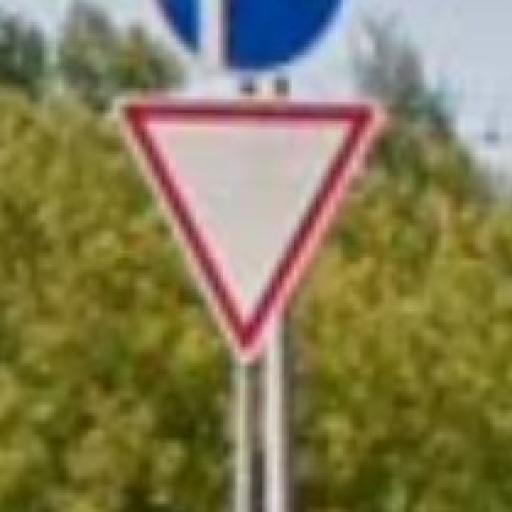traffic_sign: (114, 95, 386, 367)
